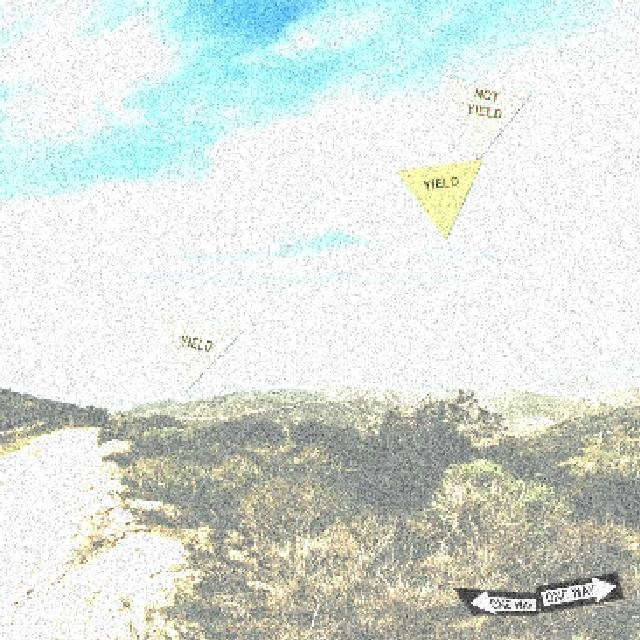NOT_YIELD: (442, 74, 532, 161)
ONE_WAY_ left: (450, 585, 540, 614)
ONE_WAY_ right: (533, 570, 623, 612)
YIELD: (154, 306, 244, 392), (393, 156, 483, 240)
